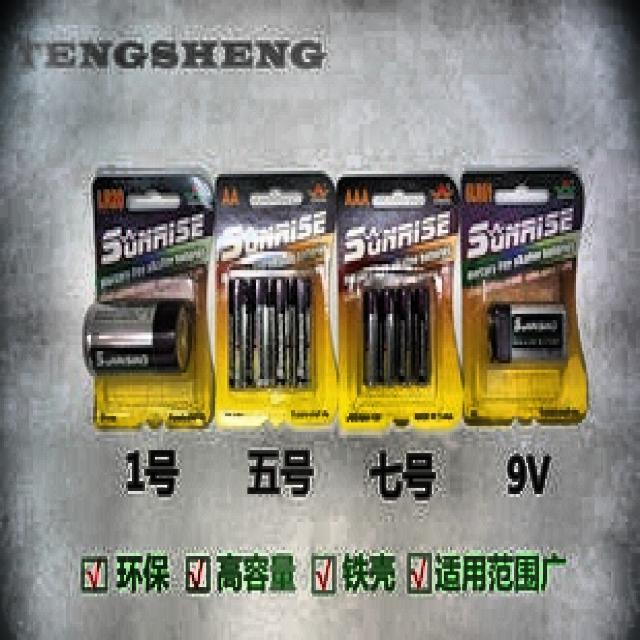Non-Valuable Waste - Batteries: (230, 278, 310, 388), (84, 301, 190, 370), (364, 290, 427, 383), (492, 305, 565, 360)
